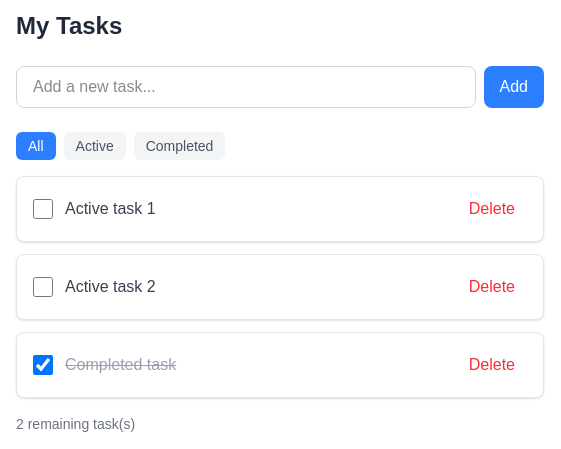
Test: TODOApp › Filtering tasks › shows only active tasks when Active filter is selected
The width and height of the screenshot is (561, 449).
Click the button "Active" at (95,146), box [64, 132, 126, 160]
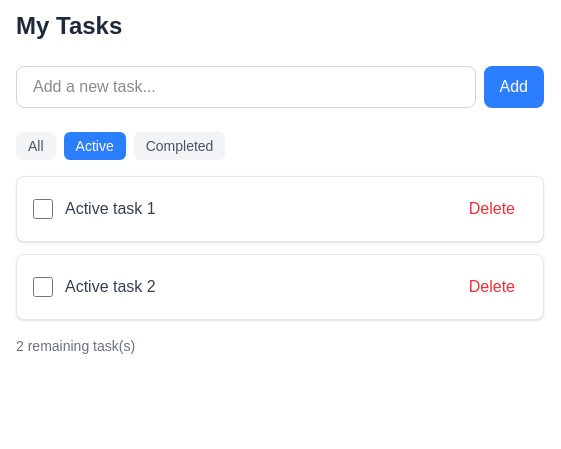
Check: the text "Active task 1" is shown, box [65, 200, 156, 217]
Check: the text "Completed task" is gone
